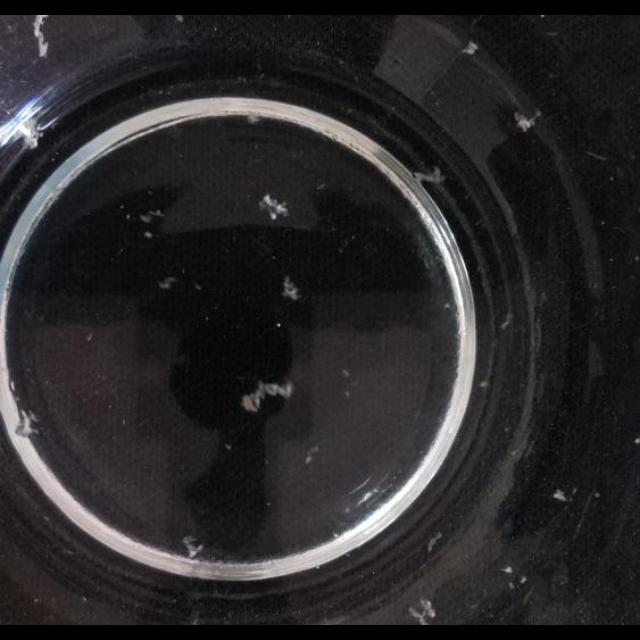Fibre: (239, 373, 295, 409), (32, 16, 52, 59), (14, 410, 40, 438), (414, 165, 446, 187), (280, 275, 302, 301), (515, 110, 541, 132), (182, 534, 204, 558), (428, 531, 444, 553), (304, 445, 320, 465), (157, 275, 177, 289), (462, 41, 478, 55), (246, 114, 262, 124)
microbeads: (258, 193, 290, 221), (406, 598, 436, 624), (501, 312, 514, 331), (552, 489, 568, 501), (140, 212, 154, 224), (340, 368, 350, 378), (143, 231, 153, 239), (194, 282, 202, 292), (502, 567, 512, 575), (85, 332, 93, 342), (479, 380, 489, 388), (304, 454, 312, 464), (224, 442, 232, 450), (443, 302, 451, 310), (332, 531, 340, 539), (519, 576, 527, 584), (275, 322, 281, 328), (636, 437, 640, 445)
